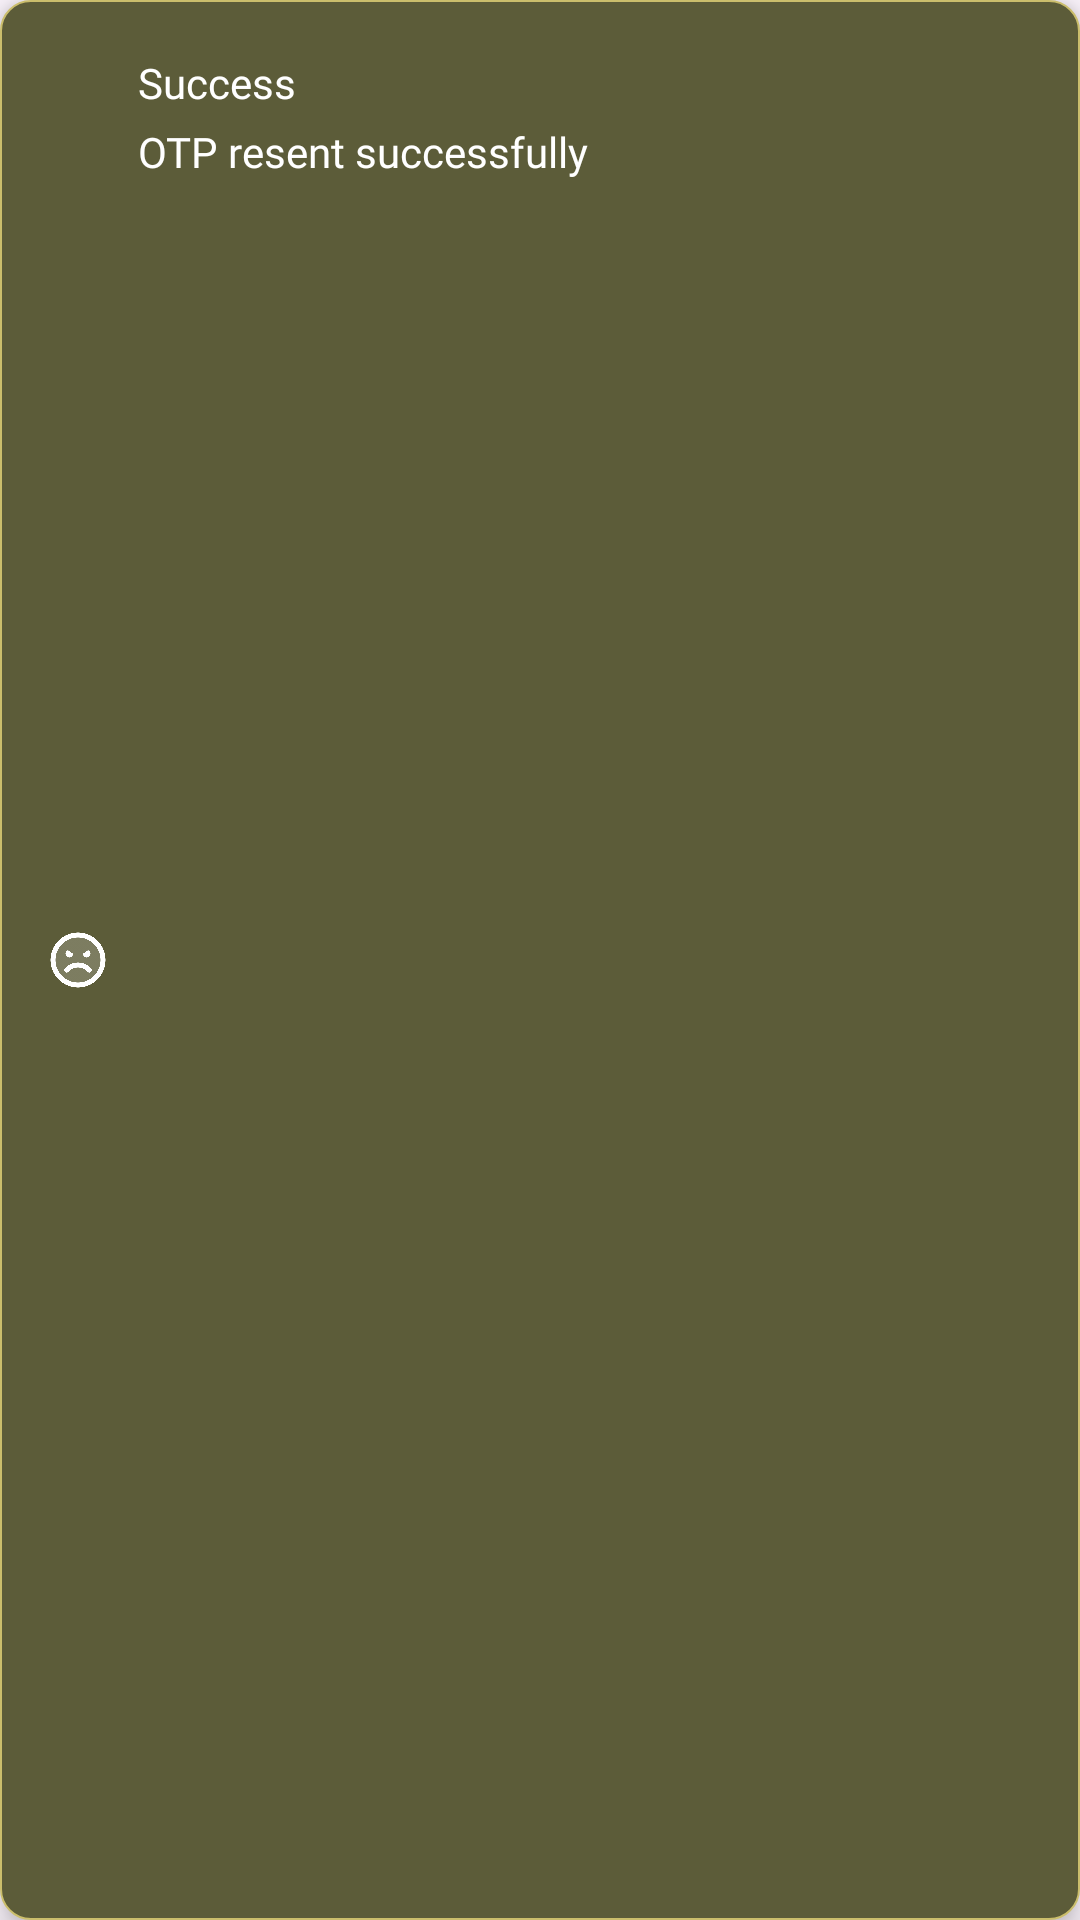

Named icons in this screenshot (1080px×1920px) and their bounding boxes, (x1, y1, x2, y2):
angry: (50, 932, 106, 988)
